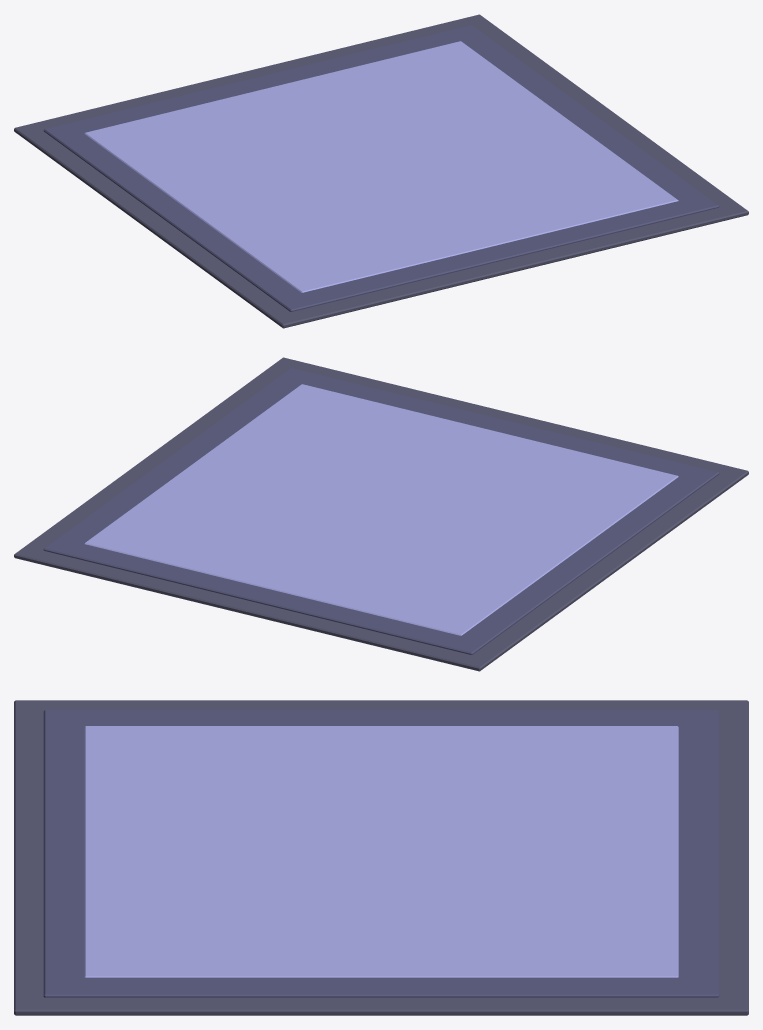
The model's file is Rug2.fbx.
The picture shows the model from 3 angles, top to bottom: view 1: azimuth 30°, elevation 25°; view 2: azimuth 150°, elevation 25°; view 3: azimuth 270°, elevation 25°; orthographic projection. The views are drawn at different scales.
Visible parts, largest first — view 1: pCube3, pCube2, pCube1; view 2: pCube3, pCube2, pCube1; view 3: pCube3, pCube2, pCube1.
Boxes of the visible parts, x1,y1,x2,y2 form: pCube3: [84, 41, 678, 292]; pCube2: [43, 25, 719, 311]; pCube1: [14, 14, 748, 328]; pCube3: [84, 384, 678, 635]; pCube2: [43, 368, 719, 654]; pCube1: [14, 357, 748, 671]; pCube3: [84, 726, 678, 977]; pCube2: [43, 710, 719, 997]; pCube1: [14, 700, 748, 1015].
Size of the model in its own units: 29.78 by 0.4481 by 29.78.
